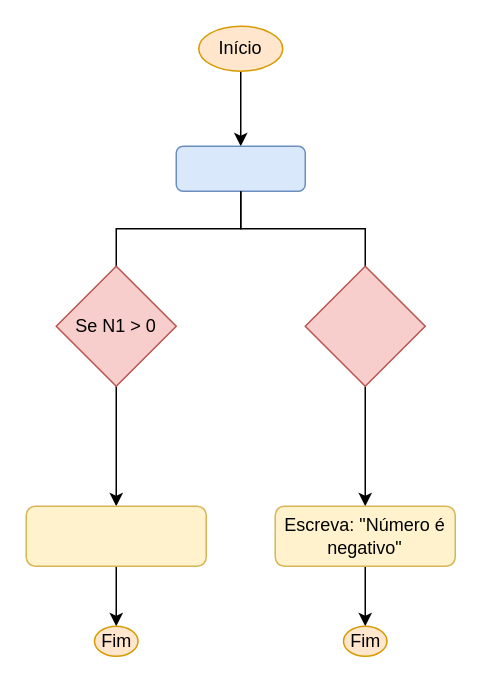
Image size: 482x683. Some labels were removed from this diagram. Each missing label, with the centre of its shape:
Escreva: "Número é positivo": [115,535]
Leia N1: [240,168]
Se N1 < 0: [364,325]
